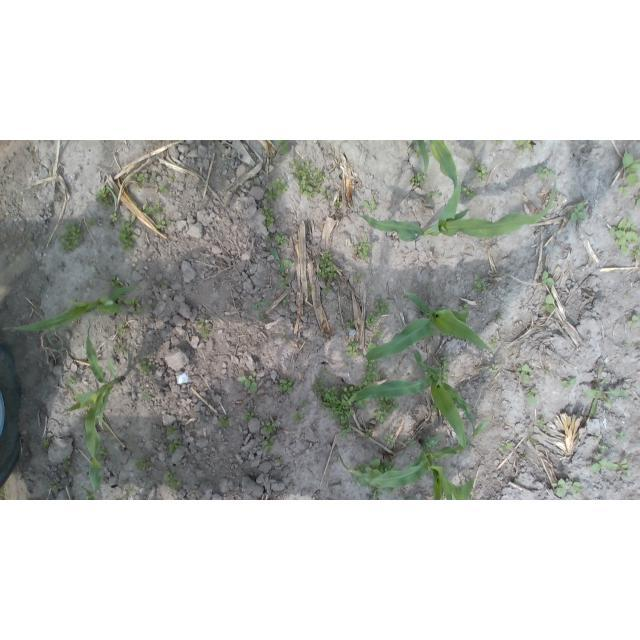Maize: (356, 141, 557, 243), (347, 350, 477, 450), (336, 419, 490, 500), (65, 324, 125, 500), (365, 290, 493, 362), (2, 285, 140, 334), (414, 141, 431, 173)
Weeds: (315, 384, 360, 433), (584, 387, 630, 418), (291, 161, 327, 200), (611, 217, 640, 260), (262, 178, 287, 227), (360, 346, 378, 401), (271, 249, 292, 288), (142, 202, 169, 231), (591, 458, 627, 478), (61, 222, 82, 255), (121, 215, 140, 250), (316, 252, 338, 281), (375, 394, 396, 424), (553, 478, 583, 498), (622, 153, 640, 185), (367, 301, 388, 328), (352, 239, 373, 262), (237, 373, 259, 394), (570, 202, 586, 223), (264, 424, 277, 449), (253, 302, 269, 319), (120, 299, 140, 312), (518, 365, 532, 383), (538, 167, 554, 181), (273, 142, 289, 156), (97, 187, 110, 204), (476, 164, 489, 180), (526, 388, 539, 404), (165, 474, 179, 488), (198, 323, 211, 338), (132, 173, 148, 185), (412, 175, 426, 188), (277, 379, 291, 392), (545, 296, 555, 313), (543, 272, 554, 287), (442, 356, 448, 383), (502, 441, 515, 453), (476, 275, 487, 289), (140, 361, 152, 373), (594, 446, 606, 458), (169, 441, 180, 454), (275, 235, 287, 246), (347, 345, 359, 356), (516, 141, 532, 149), (563, 379, 577, 388), (362, 202, 376, 211), (111, 277, 123, 287), (463, 188, 474, 198), (136, 460, 147, 469), (384, 436, 394, 444), (428, 193, 441, 199), (345, 321, 356, 328), (618, 187, 628, 194), (218, 420, 226, 428), (295, 412, 303, 420), (376, 330, 383, 339), (366, 429, 373, 438), (245, 412, 253, 419), (42, 440, 50, 447), (160, 185, 168, 192), (302, 399, 309, 407), (355, 274, 361, 283), (619, 433, 626, 440), (632, 316, 638, 324), (167, 428, 175, 434), (67, 378, 73, 385), (162, 284, 167, 290), (636, 200, 640, 206)
